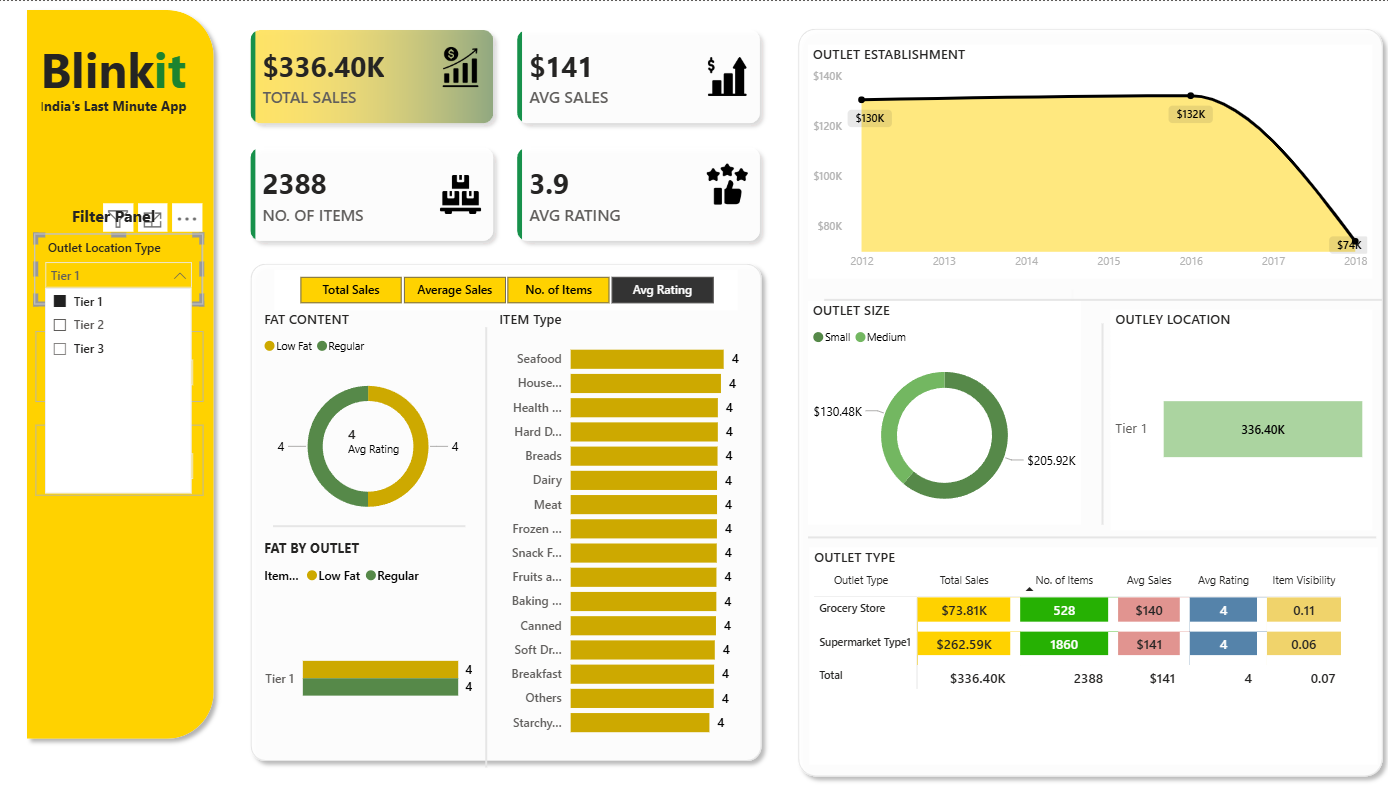

The page's visual inventory and layout, read from the dashboard file:
{"tool":"powerbi","page":{"name":"Page 1","canvas":[1400,800],"ordinal":0},"visuals":[{"type":"shape","box":[19.5,0,205.6,750.4],"z":0},{"type":"textbox","box":[37.5,30,169.6,78],"z":1000},{"type":"textbox","box":[37.5,91.6,169.6,30],"z":2000},{"type":"cardVisual","fields":{"Data":["BlinkIT Grocery Data.Total Sales","BlinkIT Grocery Data.Average Sales","BlinkIT Grocery Data.No. of Items","BlinkIT Grocery Data.Avg Rating"]},"box":[225.1,0,570.3,270.2],"z":3000},{"type":"shape","box":[244.6,255.1,531.3,517.8],"z":4000},{"type":"donutChart","title":"FAT CONTENT","fields":{"Y":["BlinkIT Grocery Data.Total Sales"],"Category":["BlinkIT Grocery Data.Item Fat Content"]},"box":[262.7,310.7,219.1,229.6],"z":5000},{"type":"slicer","fields":{"Values":["Metrics.Metrics"]},"box":[277.7,270.2,465.3,40.5],"z":6000},{"type":"cardVisual","fields":{"Data":["BlinkIT Grocery Data.Total Sales"]},"box":[322.7,400.7,120.1,81],"z":7000},{"type":"clusteredBarChart","title":"FAT BY OUTLET","fields":{"Y":["BlinkIT Grocery Data.Total Sales"],"Category":["BlinkIT Grocery Data.Outlet Location Type"],"Series":["BlinkIT Grocery Data.Item Fat Content"]},"box":[262.7,540.3,219.1,229.6],"z":8000},{"type":"shape","box":[276,515.1,193.3,25.4],"z":9000},{"type":"shape","box":[1072.1,290,16.5,225.1],"z":10000},{"type":"barChart","title":"ITEM Type","fields":{"Y":["BlinkIT Grocery Data.Total Sales"],"Category":["BlinkIT Grocery Data.Item Type"]},"box":[498.3,310.7,255.1,439.8],"z":11000},{"type":"shape","box":[794.9,19.1,605.4,769.4],"z":12000},{"type":"lineChart","title":"OUTLET ESTABLISHMENT","fields":{"Y":["BlinkIT Grocery Data.Total Sales"],"Category":["BlinkIT Grocery Data.Outlet Establishment Year"]},"box":[814,44.5,567.2,235.3],"z":13000},{"type":"shape","box":[814,527.8,571,22.9],"z":14000},{"type":"donutChart","title":"OUTLET SIZE","fields":{"Y":["BlinkIT Grocery Data.Total Sales"],"Category":["BlinkIT Grocery Data.Outlet Size"]},"box":[814,301.4,274.7,225.1],"z":15000},{"type":"shape","box":[1100.1,324.3,19.1,202.2],"z":16000},{"type":"shape","box":[482,328.1,16.5,442.6],"z":17000},{"type":"funnel","title":"OUTLEY LOCATION","fields":{"Y":["Sum(BlinkIT Grocery Data.Sales)"],"Category":["BlinkIT Grocery Data.Outlet Location Type"]},"box":[1117.9,310.3,263.3,221.3],"z":18000},{"type":"shape","box":[830.3,288.5,560.9,22.9],"z":19000},{"type":"pivotTable","title":"OUTLET TYPE","fields":{"Values":["BlinkIT Grocery Data.Total Sales","BlinkIT Grocery Data.No. of Items","BlinkIT Grocery Data.Average Sales","BlinkIT Grocery Data.Avg Rating","Avg(BlinkIT Grocery Data.Item Visibility)"],"Rows":["BlinkIT Grocery Data.Outlet Type"]},"box":[815.2,549.4,571,218.8],"z":20000},{"type":"slicer","fields":{"Values":["BlinkIT Grocery Data.Outlet Location Type"]},"box":[36.9,234,169.2,71.2],"z":21000},{"type":"slicer","fields":{"Values":["BlinkIT Grocery Data.Outlet Size"]},"box":[38.2,331.9,169.2,71.2],"z":22000},{"type":"slicer","fields":{"Values":["BlinkIT Grocery Data.Item Type"]},"box":[38.2,426.1,169.2,71.2],"z":23000},{"type":"textbox","box":[68.7,199.7,106.8,34.3],"z":24000}]}

Visuals, with their boxes on the page's 1400x800 design canvas (x1, y1, x2, y2). These are canvas units, not pixel positions in the 1388x796 screenshot, which may show the page scaled, cropped or inside an application window:
shape: 20, 0, 225, 750
textbox: 38, 30, 207, 108
textbox: 38, 92, 207, 122
cardVisual - BlinkIT Grocery Data.Total Sales x BlinkIT Grocery Data.Average Sales: 225, 0, 795, 270
shape: 245, 255, 776, 773
"FAT CONTENT" donutChart: 263, 311, 482, 540
slicer - Metrics.Metrics: 278, 270, 743, 311
cardVisual - BlinkIT Grocery Data.Total Sales: 323, 401, 443, 482
"FAT BY OUTLET" clusteredBarChart: 263, 540, 482, 770
shape: 276, 515, 469, 540
shape: 1072, 290, 1089, 515
"ITEM Type" barChart: 498, 311, 753, 750
shape: 795, 19, 1400, 788
"OUTLET ESTABLISHMENT" lineChart: 814, 44, 1381, 280
shape: 814, 528, 1385, 551
"OUTLET SIZE" donutChart: 814, 301, 1089, 526
shape: 1100, 324, 1119, 526
shape: 482, 328, 498, 771
"OUTLEY LOCATION" funnel: 1118, 310, 1381, 532
shape: 830, 288, 1391, 311
"OUTLET TYPE" pivotTable: 815, 549, 1386, 768
slicer - BlinkIT Grocery Data.Outlet Location Type: 37, 234, 206, 305
slicer - BlinkIT Grocery Data.Outlet Size: 38, 332, 207, 403
slicer - BlinkIT Grocery Data.Item Type: 38, 426, 207, 497
textbox: 69, 200, 176, 234
